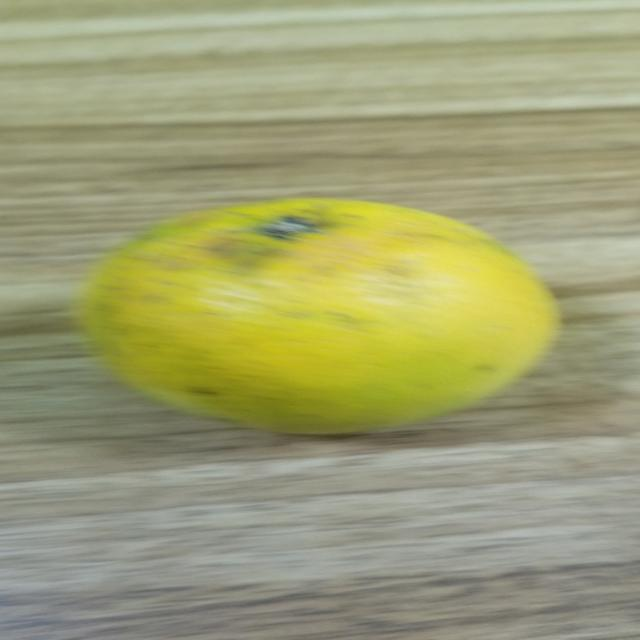Ripe orange: (88, 192, 565, 440)
